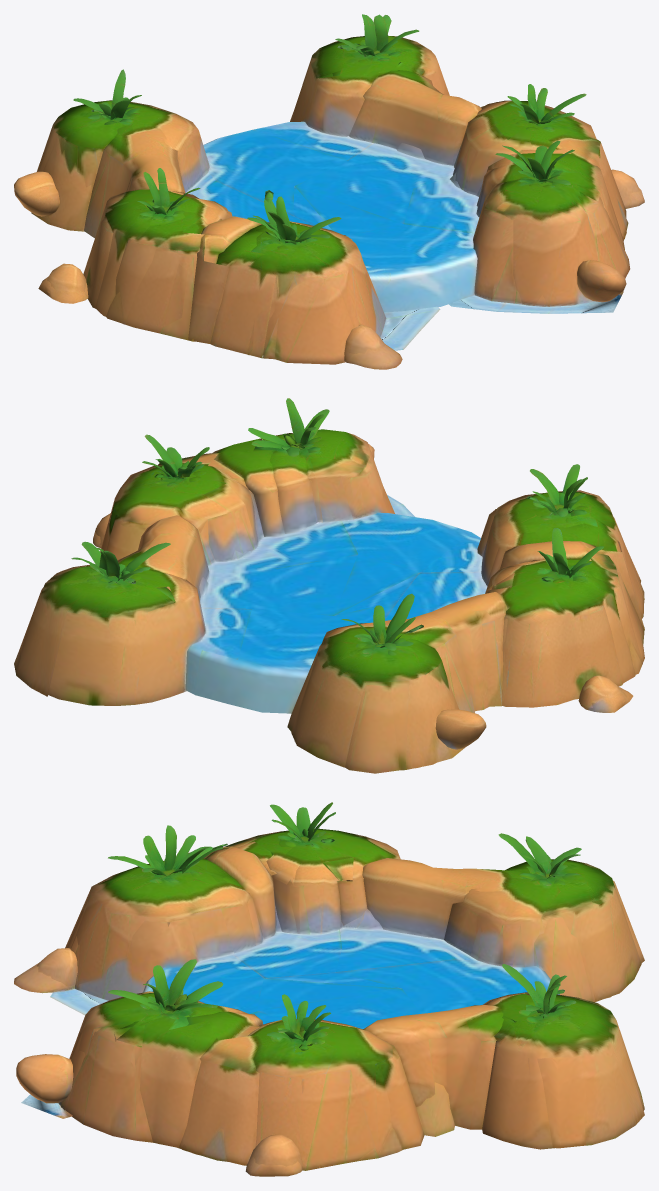
Rendered from s2_r2c4_winding_stream_bend.glb.
The picture shows the model from 3 angles, top to bottom: view 1: azimuth 30°, elevation 25°; view 2: azimuth 150°, elevation 25°; view 3: azimuth 270°, elevation 25°; orthographic projection. The views are drawn at different scales.
Size of the model in its own units: 1 by 0.213 by 0.9166.
Materials: 1 (1 with a texture image).
